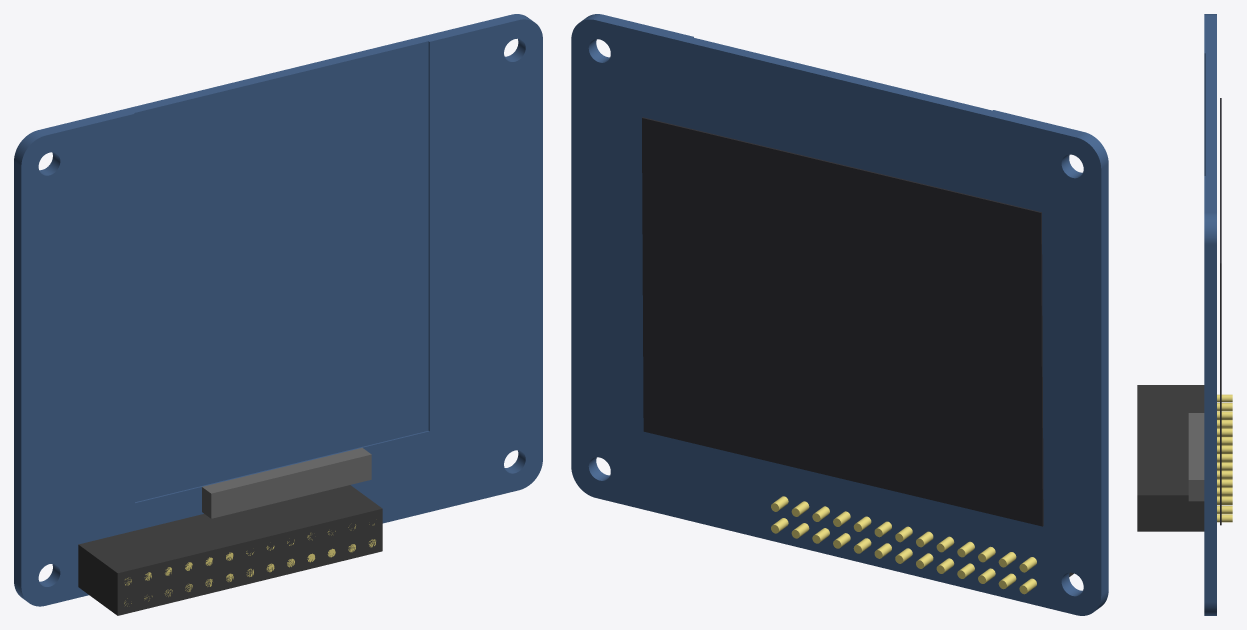
The model's file is screen.glb.
The picture shows the model from 3 angles, left to right: view 1: azimuth 30°, elevation 25°; view 2: azimuth 150°, elevation 25°; view 3: azimuth 270°, elevation 25°; orthographic projection. The views are drawn at different scales.
Parts seen in each view (by area): view 1: PCB_Board, GPIO_Header_Housing, FPC_Connector, GPIO_Pins; view 2: PCB_Board, Screen_Glass, GPIO_Pins; view 3: GPIO_Header_Housing, PCB_Board, GPIO_Pins, FPC_Connector, Screen_Glass.
Part boxes in pixels (x1,y1,x2,y2): PCB_Board: (14, 14, 542, 606); GPIO_Header_Housing: (78, 485, 382, 615); FPC_Connector: (202, 447, 371, 518); GPIO_Pins: (124, 523, 375, 606); PCB_Board: (571, 14, 1108, 615); Screen_Glass: (642, 117, 1043, 526); GPIO_Pins: (771, 496, 1036, 594); GPIO_Header_Housing: (1137, 385, 1204, 531); PCB_Board: (1204, 14, 1216, 615); GPIO_Pins: (1217, 394, 1232, 522); FPC_Connector: (1188, 413, 1204, 501); Screen_Glass: (1220, 98, 1221, 525).
Bounding box in the file's own units: 65 × 56 × 12.1.
